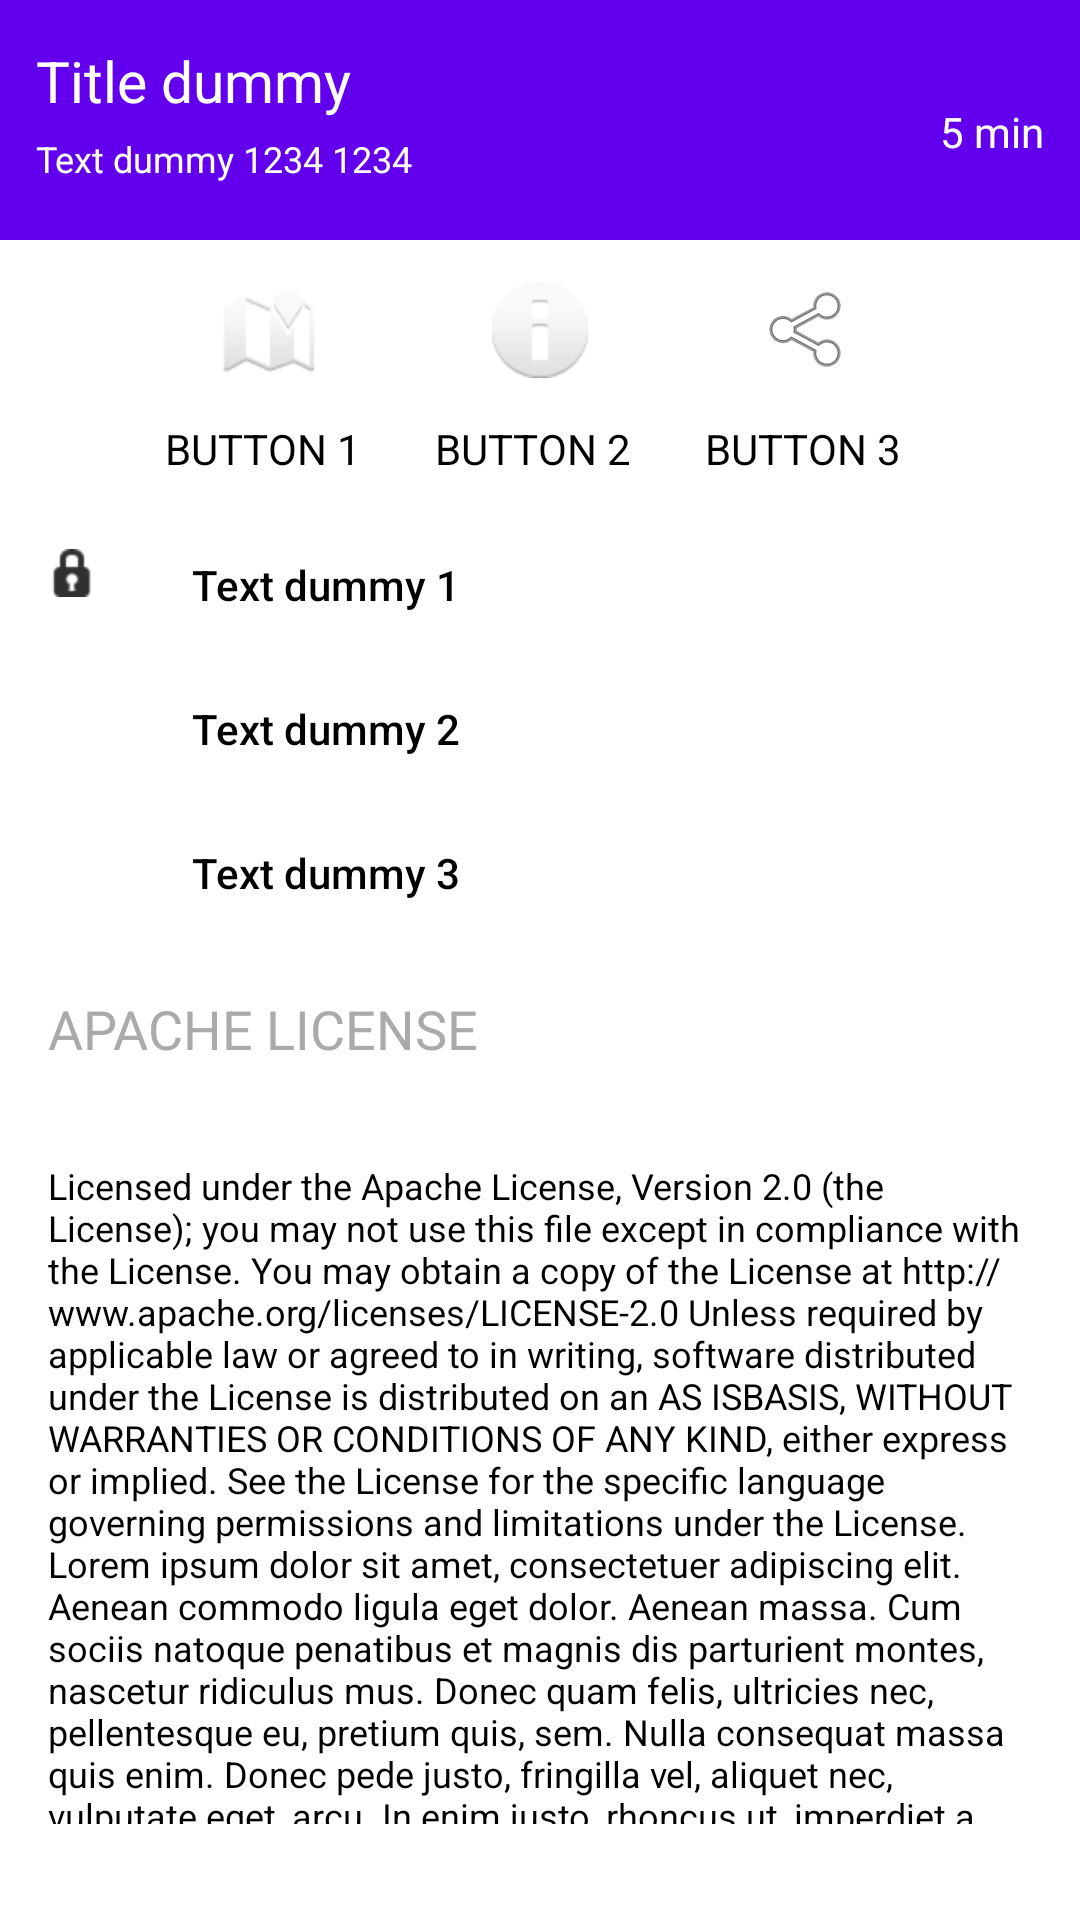

Named icons in this screenshot (1080px×1920px) and their centers, (x,y):
info: (540,339)
map: (269,335)
secure: (72,573)
share: (805,329)
